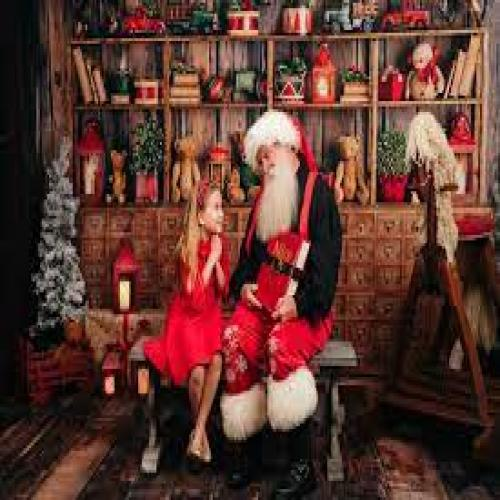Santa: (222, 111, 340, 500)
